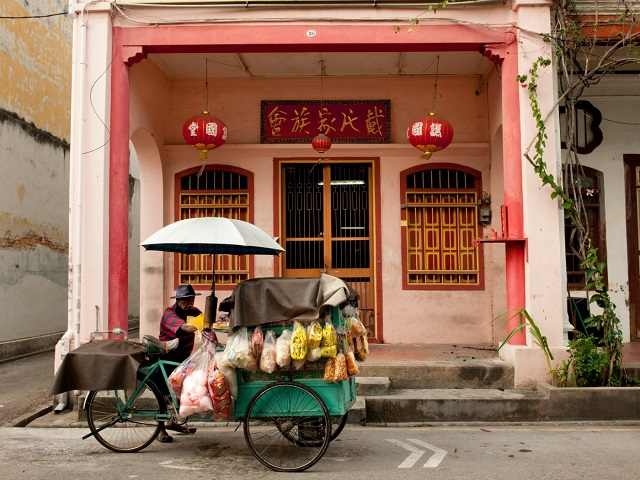cart: (70, 277, 369, 463)
person: (161, 286, 207, 440)
plant: (539, 300, 640, 413)
